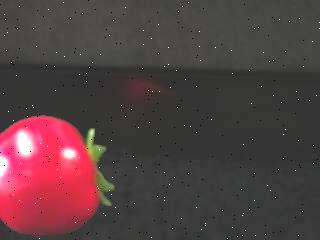Tomato: (0, 114, 116, 239)
